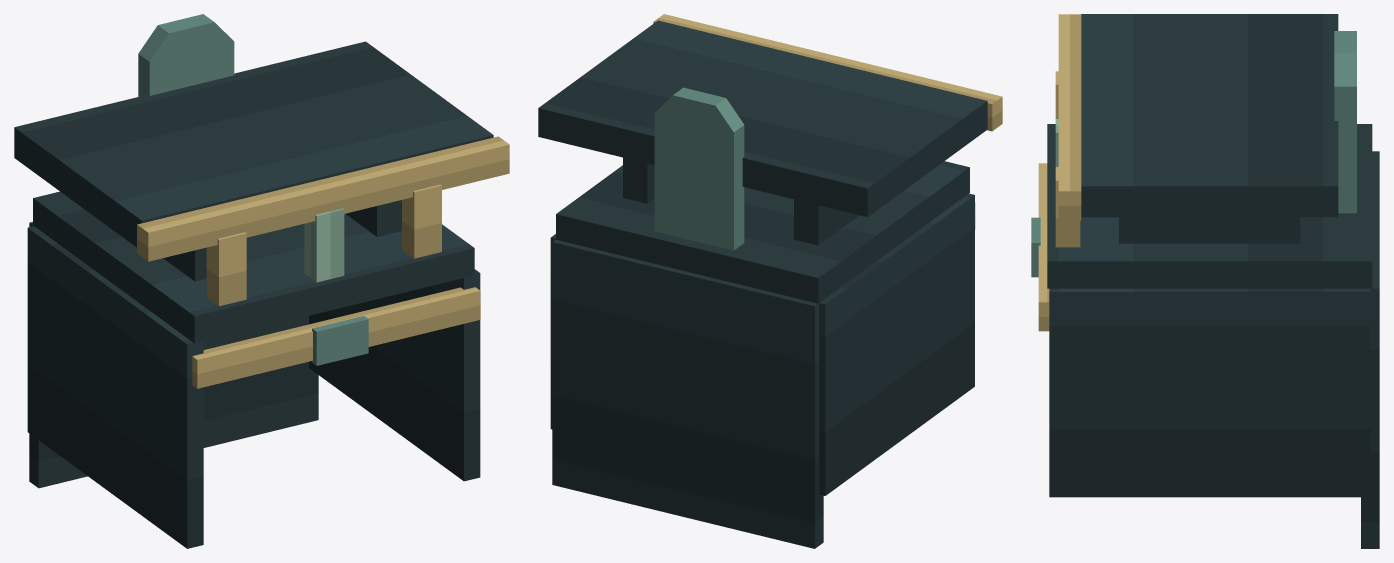
Rendered from huashen_xuanji_helmet.obj.
3 views of the same model, side by side, from view 1: azimuth 30°, elevation 25°; view 2: azimuth 150°, elevation 25°; view 3: azimuth 270°, elevation 25° (orthographic). The views are drawn at different scales.
Visible parts, largest first — view 1: mitre_board, cap_side_-1, cap_top, cap_side_1, mitre_front_beam, cap_back, cap_brow, mitre_back_seal, mitre_drop_1, mitre_drop_0, mitre_drop_2, mitre_brow_seal (+2 smaller); view 2: cap_back, mitre_board, cap_side_-1, cap_top, mitre_back_seal, mitre_front_beam, mitre_support_-1, mitre_support_1, cap_side_1; view 3: cap_side_1, mitre_board, cap_top, mitre_front_beam, mitre_support_1, cap_back, mitre_back_seal, cap_brow, mitre_drop_2, mitre_brow_seal.
Part boxes in pixels (x1,y1,x2,y2): mitre_board: (14, 41, 493, 247); cap_side_-1: (27, 226, 203, 548); cap_top: (33, 191, 474, 343); cap_side_1: (309, 269, 480, 481); mitre_front_beam: (137, 136, 509, 261); cap_back: (29, 222, 318, 488); cap_brow: (192, 287, 480, 388); mitre_back_seal: (138, 14, 234, 96); mitre_drop_1: (304, 208, 344, 282); mitre_drop_0: (206, 232, 246, 306); mitre_drop_2: (402, 184, 441, 258); mitre_brow_seal: (312, 316, 368, 365); cap_back: (552, 240, 823, 548); mitre_board: (538, 20, 987, 217); cap_side_-1: (819, 193, 974, 495); cap_top: (556, 161, 969, 303); mitre_back_seal: (654, 87, 744, 250); mitre_front_beam: (653, 14, 1002, 131); mitre_support_-1: (794, 199, 858, 245); mitre_support_1: (623, 157, 654, 203); cap_side_1: (550, 234, 555, 429); cap_side_1: (1049, 288, 1370, 497); mitre_board: (1081, 14, 1338, 217); cap_top: (1047, 124, 1372, 288); mitre_front_beam: (1058, 14, 1081, 220); mitre_support_1: (1119, 217, 1300, 243); cap_back: (1361, 151, 1379, 548); mitre_back_seal: (1334, 31, 1356, 213); cap_brow: (1038, 163, 1049, 331); mitre_drop_2: (1055, 167, 1080, 247); mitre_brow_seal: (1031, 217, 1040, 277).
Size of the model in its own units: 0.6938 by 0.8 by 0.5766.
